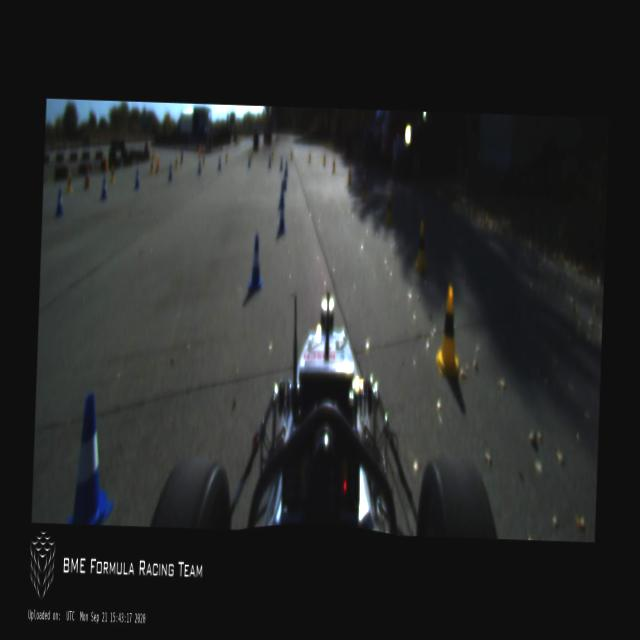blue_cone: (66, 392, 116, 524), (248, 233, 262, 290), (277, 202, 286, 232), (56, 189, 62, 215), (280, 182, 284, 206), (102, 177, 106, 199), (135, 168, 139, 187)
yellow_cone: (435, 284, 463, 377), (415, 221, 427, 270), (386, 192, 392, 225), (361, 172, 366, 198), (66, 172, 71, 191), (110, 163, 114, 182)
